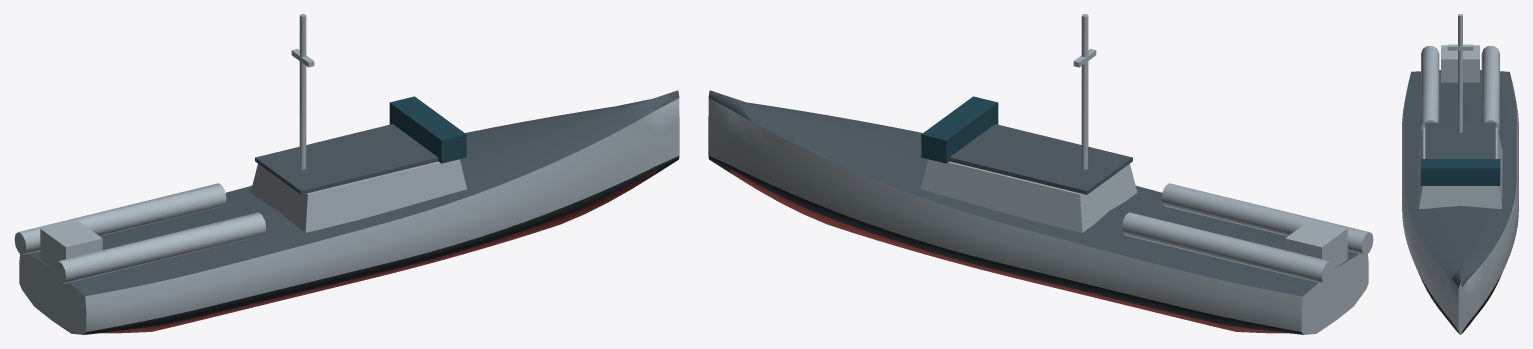
Rendered from irn_fac_peykaap3.glb.
3 renders of one model, left to right at view 1: azimuth 30°, elevation 25°; view 2: azimuth 150°, elevation 25°; view 3: azimuth 270°, elevation 25°, orthographic. The views are drawn at different scales.
Visible parts, largest first — view 1: naval_paint, deck_non_skid, boot_topping, glazing, antifouling; view 2: naval_paint, deck_non_skid, boot_topping, glazing, antifouling; view 3: deck_non_skid, naval_paint, glazing, boot_topping.
Boxes of the visible parts, x1,y1,x2,y2 form: naval_paint: (14, 14, 679, 334); deck_non_skid: (28, 90, 679, 296); boot_topping: (84, 156, 679, 334); glazing: (389, 96, 466, 163); antifouling: (88, 169, 657, 334); naval_paint: (708, 14, 1373, 334); deck_non_skid: (708, 90, 1359, 296); boot_topping: (708, 156, 1303, 334); glazing: (921, 96, 998, 163); antifouling: (730, 169, 1290, 333); deck_non_skid: (1404, 70, 1516, 286); naval_paint: (1402, 14, 1518, 334); glazing: (1420, 159, 1500, 185); boot_topping: (1416, 268, 1504, 333).
Size of the model in its own units: 10 by 3.92 by 2.08.
